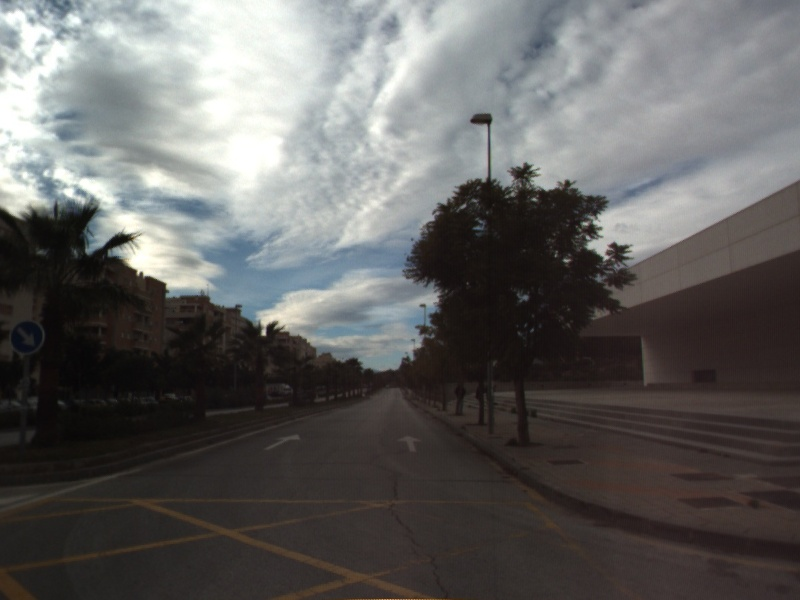STRAIGHT: (261, 432, 303, 452), (395, 433, 424, 454)
